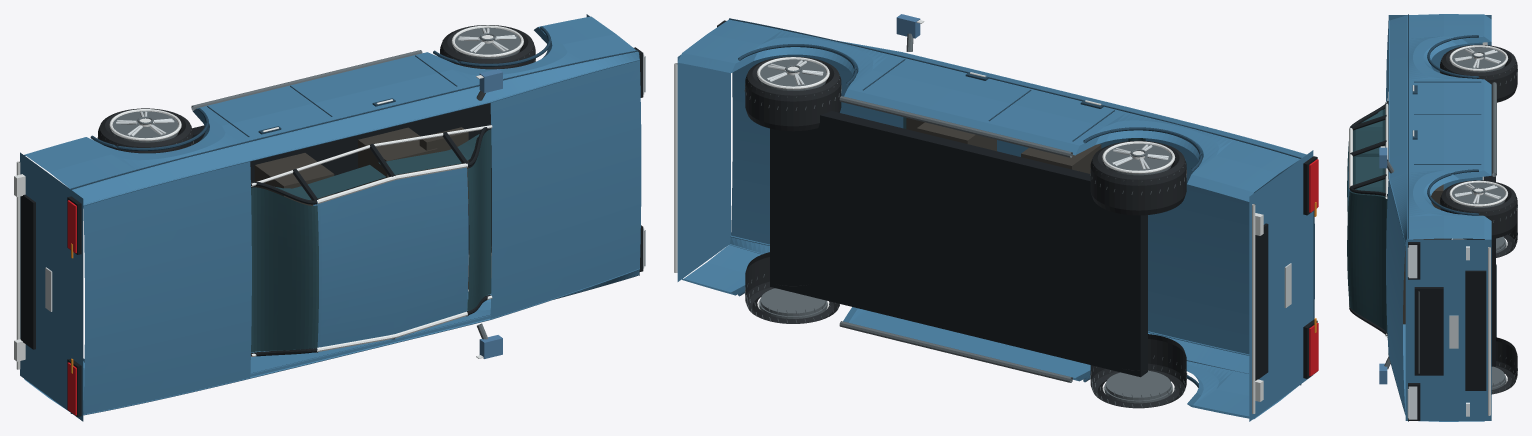
The model's file is Aster_Sedan.glb.
3 renders of one model, left to right at view 1: azimuth 30°, elevation 25°; view 2: azimuth 150°, elevation 25°; view 3: azimuth 270°, elevation 25°, orthographic. The views are drawn at different scales.
Visible parts, largest first — view 1: rear_deck_crowned, bonnet_crowned, left_sculpted_fenders_and_doors, continuous_curved_roof, rear_windshield, rear_painted_fascia, underbody, front_windshield, right_sculpted_fenders_and_doors, rear_lower_air_intake, seat_-0.44_1, seat_0.42_1 (+15 smaller); view 2: underbody, left_sculpted_fenders_and_doors, rear_deck_crowned, right_sculpted_fenders_and_doors, front_painted_fascia, rear_painted_fascia, bonnet_crowned, rear_left_wheel_rounded_tire, front_left_wheel_rounded_tire, rear_right_wheel_rounded_tire, rear_lower_air_intake, front_right_wheel_rounded_tire (+12 smaller); view 3: left_sculpted_fenders_and_doors, front_painted_fascia, front_windshield, bonnet_crowned, front_main_grille, front_lower_air_intake, front_left_wheel_rounded_tire, rear_left_wheel_rounded_tire, front_right_wheel_rounded_tire, left_side_window_1, front_left_wheel_wheel_barrel, rear_left_wheel_wheel_barrel (+29 smaller).
Part boxes in pixels (bbox=[...]): rear_deck_crowned: bbox=[83, 161, 251, 414]; bonnet_crowned: bbox=[490, 60, 641, 318]; left_sculpted_fenders_and_doors: bbox=[24, 16, 639, 204]; continuous_curved_roof: bbox=[313, 167, 468, 349]; rear_windshield: bbox=[251, 187, 318, 352]; rear_painted_fascia: bbox=[20, 152, 83, 421]; underbody: bbox=[192, 103, 491, 249]; front_windshield: bbox=[467, 129, 491, 310]; right_sculpted_fenders_and_doors: bbox=[24, 269, 639, 411]; rear_lower_air_intake: bbox=[20, 194, 35, 349]; seat_-0.44_1: bbox=[254, 153, 334, 205]; seat_0.42_1: bbox=[358, 127, 437, 186]; underbody: bbox=[770, 111, 1147, 377]; left_sculpted_fenders_and_doors: bbox=[677, 19, 1305, 201]; rear_deck_crowned: bbox=[1145, 138, 1314, 354]; right_sculpted_fenders_and_doors: bbox=[678, 237, 1296, 419]; front_painted_fascia: bbox=[677, 55, 730, 281]; rear_painted_fascia: bbox=[1249, 150, 1313, 421]; bonnet_crowned: bbox=[731, 54, 903, 244]; rear_left_wheel_rounded_tire: bbox=[1090, 140, 1186, 215]; front_left_wheel_rounded_tire: bbox=[745, 56, 841, 131]; rear_right_wheel_rounded_tire: bbox=[1090, 334, 1186, 408]; rear_lower_air_intake: bbox=[1255, 223, 1268, 380]; front_right_wheel_rounded_tire: bbox=[745, 252, 839, 323]; left_sculpted_fenders_and_doors: bbox=[1389, 14, 1491, 243]; front_painted_fascia: bbox=[1405, 239, 1491, 420]; front_windshield: bbox=[1347, 191, 1387, 333]; bonnet_crowned: bbox=[1386, 180, 1405, 413]; front_main_grille: bbox=[1414, 287, 1443, 375]; front_lower_air_intake: bbox=[1465, 270, 1486, 390]; front_left_wheel_rounded_tire: bbox=[1440, 180, 1517, 239]; rear_left_wheel_rounded_tire: bbox=[1440, 44, 1517, 102]; front_right_wheel_rounded_tire: bbox=[1491, 337, 1517, 394]; left_side_window_1: bbox=[1355, 157, 1382, 192]; front_left_wheel_wheel_barrel: bbox=[1452, 182, 1505, 207]; rear_left_wheel_wheel_barrel: bbox=[1452, 47, 1505, 72].
Size of the model in its own units: 4.86 by 2.25 by 1.52.
